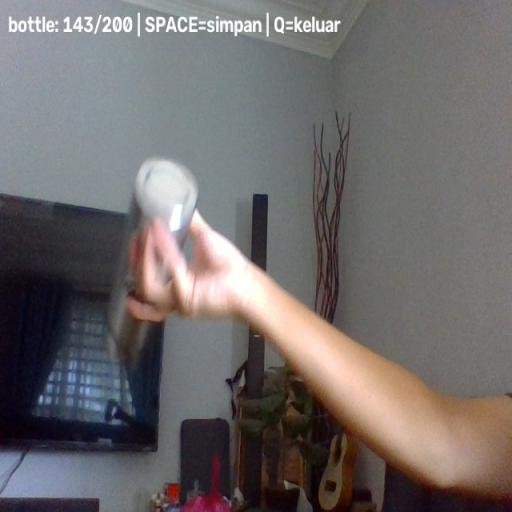Bottle: (107, 157, 200, 371)
